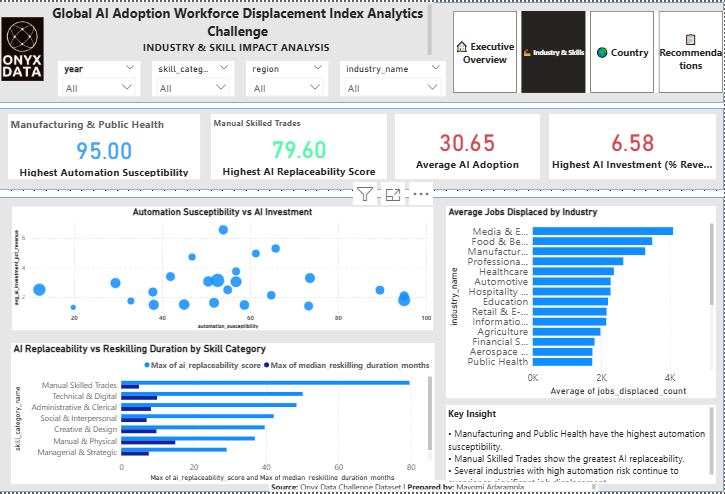

Layout of this report page (visuals, bound fields, positions):
{"tool":"powerbi","page":{"name":"🏭 Industry & Skills","canvas":[1480,1000],"ordinal":1},"visuals":[{"type":"textbox","box":[10,0,1438,206],"z":0},{"type":"shape","box":[0,0,1479.6,206.1],"z":1000},{"type":"shape","box":[-8.2,216.3,1487.8,167.3],"z":2000},{"type":"shape","box":[-8.2,398,1487.8,602],"z":3000},{"type":"image","box":[0,0,96,192],"z":4000},{"type":"textbox","box":[96,0,792,120],"z":5000},{"type":"card","fields":{"Values":["Max(dim_industry.automation_susceptibility)"]},"box":[18.4,228.6,391.8,132.7],"z":6000},{"type":"card","fields":{"Values":["Max(dim_skill_category.ai_replaceability_score)"]},"box":[432.7,228.6,359.2,132.7],"z":7000},{"type":"card","fields":{"Values":["Measures (2).Average AI Adoption"]},"box":[808.2,228.6,295.9,132.7],"z":8000},{"type":"card","fields":{"Values":["Max(dim_industry.avg_ai_investment_pct_revenue)"]},"box":[1122.4,228.6,340.8,132.7],"z":9000},{"type":"scatterChart","title":"Automation Susceptibility vs AI Investment","fields":{"X":["dim_industry.automation_susceptibility"],"Y":["dim_industry.avg_ai_investment_pct_revenue"],"Size":["Avg(fact_workforce_ai_index.jobs_displaced_count)"]},"box":[24.5,416.3,863.3,255.1],"z":10000},{"type":"clusteredBarChart","title":"AI Replaceability vs Reskilling Duration by Skill Category","fields":{"Category":["dim_skill_category.skill_category_name"],"Y":["Max(dim_skill_category.ai_replaceability_score)","Max(dim_skill_category.median_reskilling_duration_months)"]},"box":[24,696,864,288],"z":11000},{"type":"barChart","title":"Average Jobs Displaced by Industry","fields":{"Category":["dim_industry.industry_name"],"Y":["Avg(fact_workforce_ai_index.jobs_displaced_count)"]},"box":[912.2,416.3,551,391.8],"z":12000},{"type":"slicer","fields":{"Values":["dim_date.year"]},"box":[120,120,168,72],"z":13000},{"type":"slicer","fields":{"Values":["dim_country.region"]},"box":[504,120,168,72],"z":14000},{"type":"slicer","fields":{"Values":["dim_skill_category.skill_category_name"]},"box":[312,120,168,72],"z":15000},{"type":"slicer","fields":{"Values":["dim_industry.industry_name"]},"box":[696,120,216,72],"z":16000},{"type":"textbox","box":[552,976,672,24],"z":17000},{"type":"pageNavigator","box":[926.5,18.4,553.1,167.3],"z":18000},{"type":"textbox","box":[912.2,822.4,551,161.2],"z":19000}]}

Visuals, with their boxes in screenshot pixels (x1, y1, x2, y2), scaled from the page's 1480x1000 canvas onto the 725x494 screenshot:
textbox: <region>5, 0, 709, 102</region>
shape: <region>0, 0, 724, 102</region>
shape: <region>0, 107, 724, 189</region>
shape: <region>0, 197, 724, 493</region>
image: <region>0, 0, 47, 95</region>
textbox: <region>47, 0, 435, 59</region>
card - Max(dim_industry.automation_susceptibility): <region>9, 113, 201, 178</region>
card - Max(dim_skill_category.ai_replaceability_score): <region>212, 113, 388, 178</region>
card - Measures (2).Average AI Adoption: <region>396, 113, 541, 178</region>
card - Max(dim_industry.avg_ai_investment_pct_revenue): <region>550, 113, 717, 178</region>
"Automation Susceptibility vs AI Investment" scatterChart: <region>12, 206, 435, 332</region>
"AI Replaceability vs Reskilling Duration by Skill Category" clusteredBarChart: <region>12, 344, 435, 486</region>
"Average Jobs Displaced by Industry" barChart: <region>447, 206, 717, 399</region>
slicer - dim_date.year: <region>59, 59, 141, 95</region>
slicer - dim_country.region: <region>247, 59, 329, 95</region>
slicer - dim_skill_category.skill_category_name: <region>153, 59, 235, 95</region>
slicer - dim_industry.industry_name: <region>341, 59, 447, 95</region>
textbox: <region>270, 482, 600, 493</region>
pageNavigator: <region>454, 9, 724, 92</region>
textbox: <region>447, 406, 717, 486</region>
